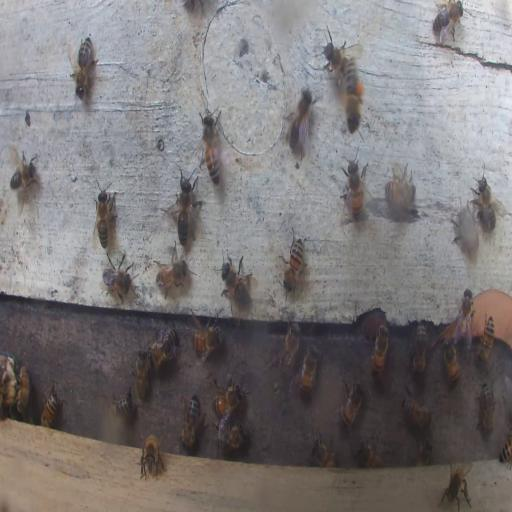nonpollenbee: (167, 168, 201, 244), (469, 166, 501, 233), (284, 89, 314, 160), (342, 149, 368, 220), (220, 252, 252, 309), (440, 461, 474, 511), (321, 24, 349, 84), (94, 181, 118, 250), (280, 230, 305, 295), (70, 34, 96, 96), (385, 166, 416, 215), (100, 260, 134, 304), (200, 116, 221, 187), (336, 376, 364, 429), (191, 317, 222, 364), (154, 254, 188, 294), (432, 2, 463, 44), (148, 325, 178, 367), (180, 394, 202, 450), (9, 153, 39, 194), (455, 206, 480, 254), (216, 422, 249, 456), (402, 390, 431, 428), (139, 434, 164, 478), (212, 384, 242, 418), (40, 380, 60, 429), (280, 324, 300, 373), (298, 347, 317, 398), (474, 315, 494, 363), (134, 346, 151, 401), (478, 382, 495, 436), (310, 434, 336, 468), (442, 338, 461, 384), (110, 382, 134, 418), (372, 324, 388, 376), (457, 290, 473, 341), (414, 320, 427, 375), (2, 356, 14, 413), (358, 439, 383, 466), (498, 420, 512, 467), (16, 365, 29, 414), (417, 438, 432, 464)
pollenbee: (342, 58, 366, 132)
